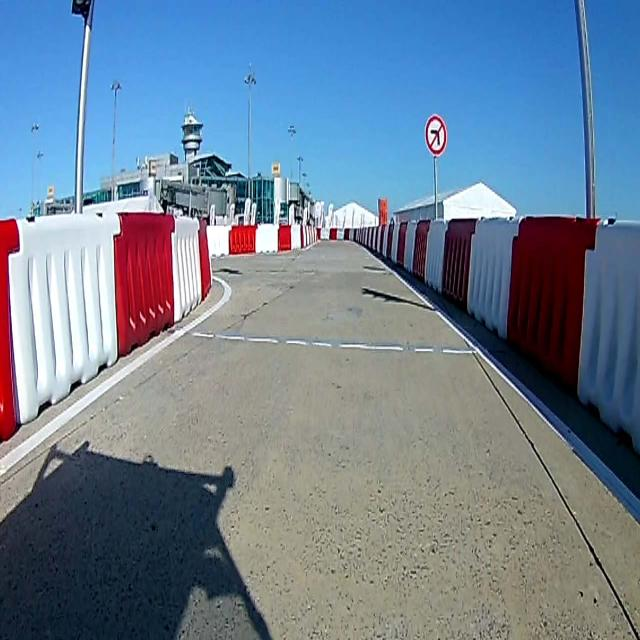soladonulmez: (426, 116, 446, 154)
